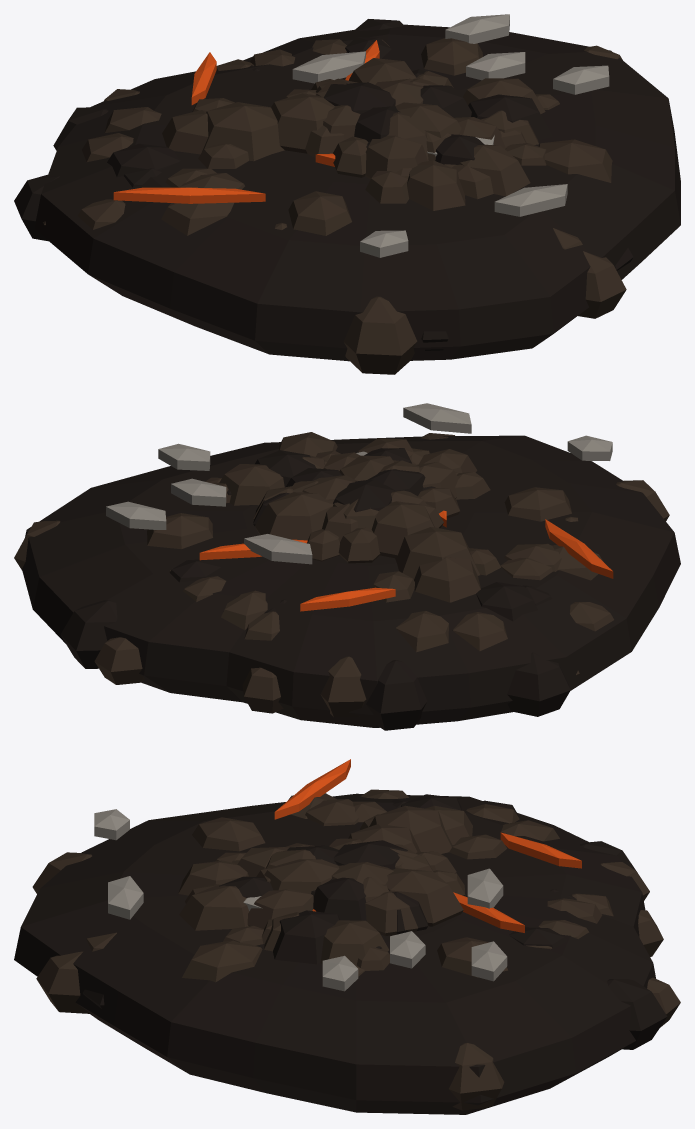
Rendered from chicken_burnt.glb.
The picture shows the model from 3 angles, top to bottom: view 1: azimuth 30°, elevation 25°; view 2: azimuth 150°, elevation 25°; view 3: azimuth 270°, elevation 25°; orthographic projection. The views are drawn at different scales.
Parts seen in each view (by area): view 1: ChickenBurnt; view 2: ChickenBurnt; view 3: ChickenBurnt.
Boxes of the visible parts, x1,y1,x2,y2 form: ChickenBurnt: [14, 14, 680, 374]; ChickenBurnt: [14, 403, 680, 730]; ChickenBurnt: [14, 759, 680, 1114].
Bounding box in the file's own units: 3 × 0.7 × 3.
